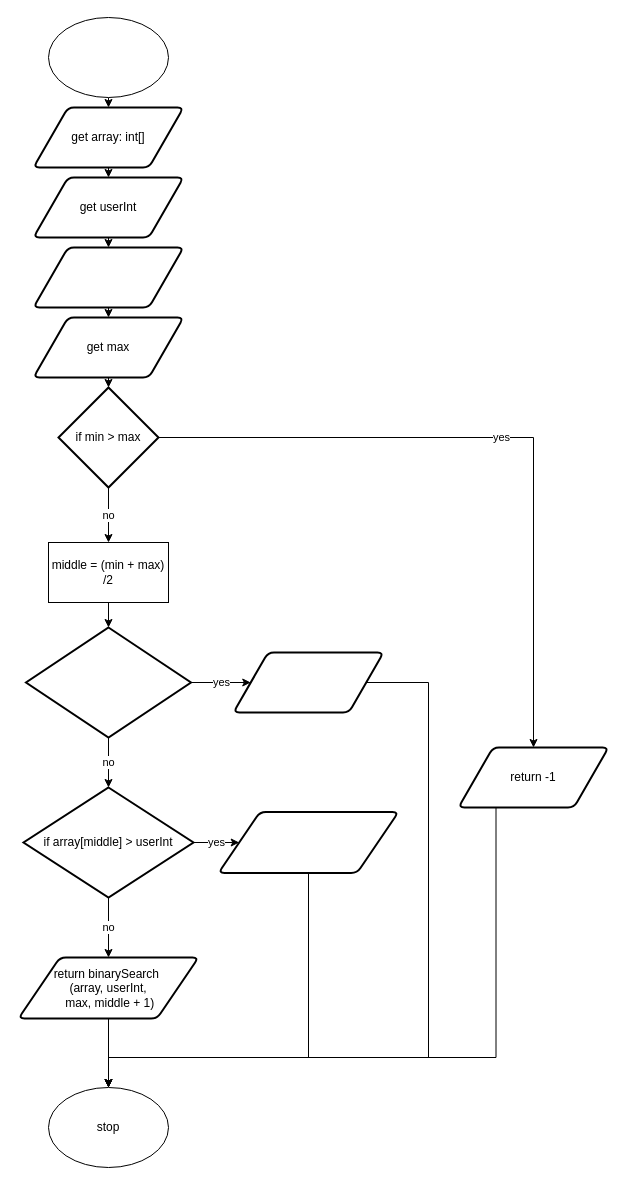
Image size: 626x1185. Some labels were removed from this diagram. The centre of each missing label's shape, as x and y in pixels:
get min: pixel 108 277
if array[middle] === userInt: pixel 108 682
return binarySearch (array, userInt, min, middle -1): pixel 308 842
return middle: pixel 308 682
start: pixel 108 57
